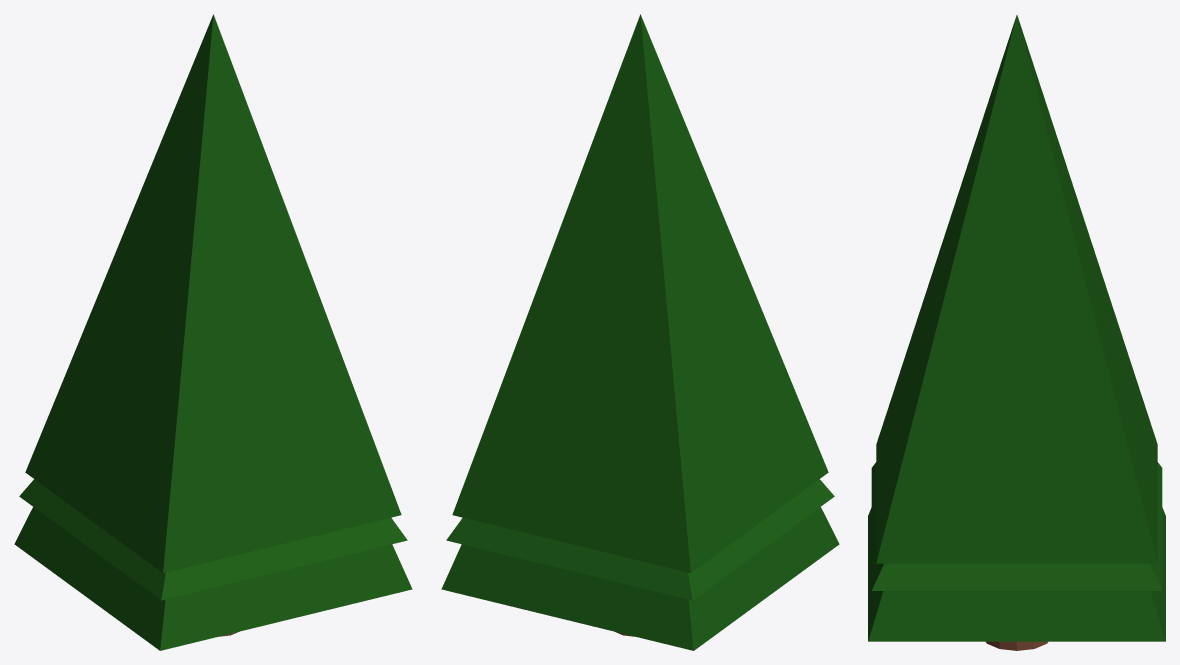
Rendered from Tree_34_autumn_mat.fbx.
3 views of the same model, side by side, from view 1: azimuth 30°, elevation 25°; view 2: azimuth 150°, elevation 25°; view 3: azimuth 270°, elevation 25° (orthographic). The views are drawn at different scales.
Parts seen in each view (by area): view 1: Tree_34_autumn_mat; view 2: Tree_34_autumn_mat; view 3: Tree_34_autumn_mat.
Part boxes in pixels (x1=…): Tree_34_autumn_mat: x1=14, y1=14, x2=412, y2=650; Tree_34_autumn_mat: x1=441, y1=14, x2=839, y2=650; Tree_34_autumn_mat: x1=868, y1=15, x2=1165, y2=650.
Size of the model in its own units: 3.35 by 7.72 by 3.35.
